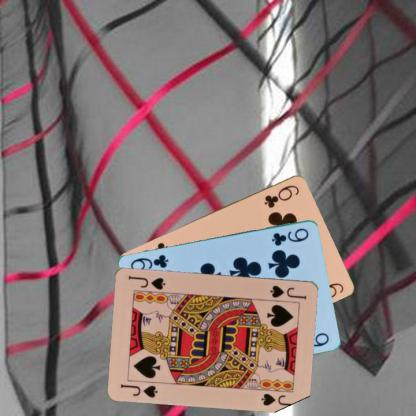6c: (261, 182, 301, 209)
9c: (269, 226, 310, 248)
Js: (267, 282, 308, 300), (118, 381, 159, 399)
